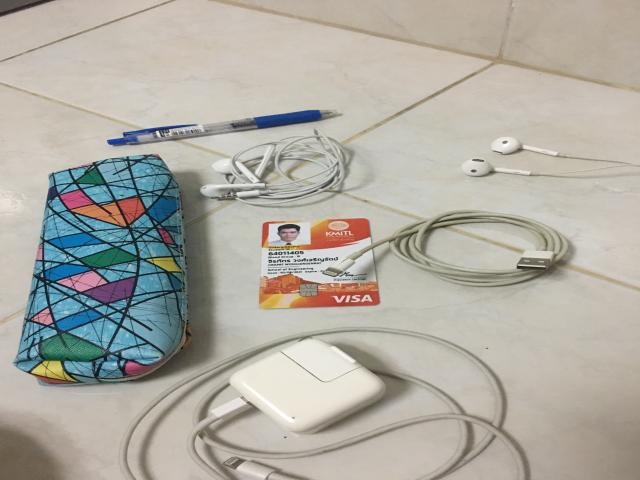Pen: (107, 110, 338, 145)
wire: (118, 327, 528, 480), (322, 210, 568, 287), (200, 129, 347, 205), (462, 137, 638, 176)
